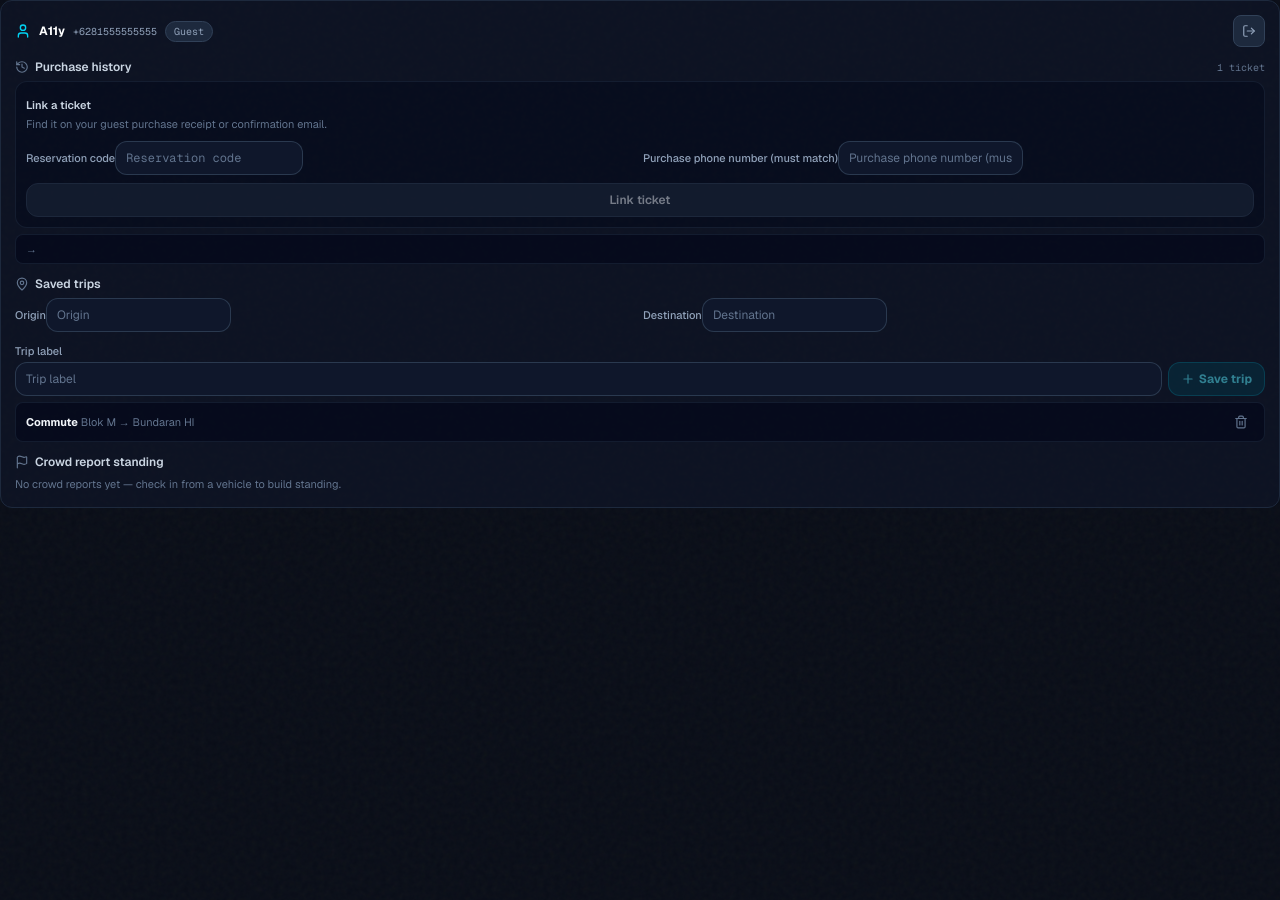
Test: account panel a11y › asks before deleting a saved trip
Expected: the text "Purchase history" is shown, [15, 59, 132, 75]
Click the button named "delete trip" at (1241, 422), box [1228, 409, 1254, 435]
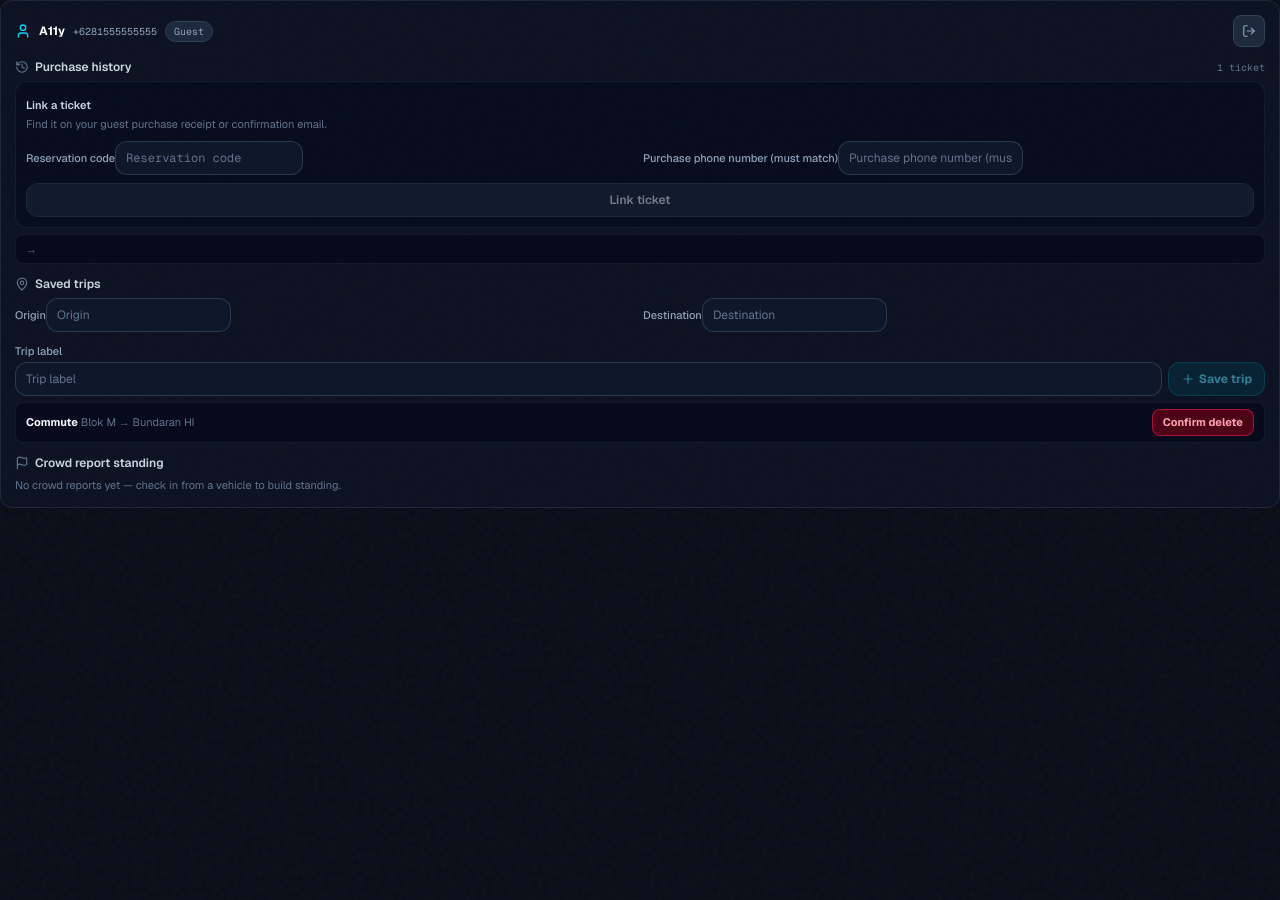
Expected: the text "Commute" is shown, [26, 415, 78, 429]
Click the button "Confirm delete" at (1203, 422), box [1152, 409, 1254, 436]
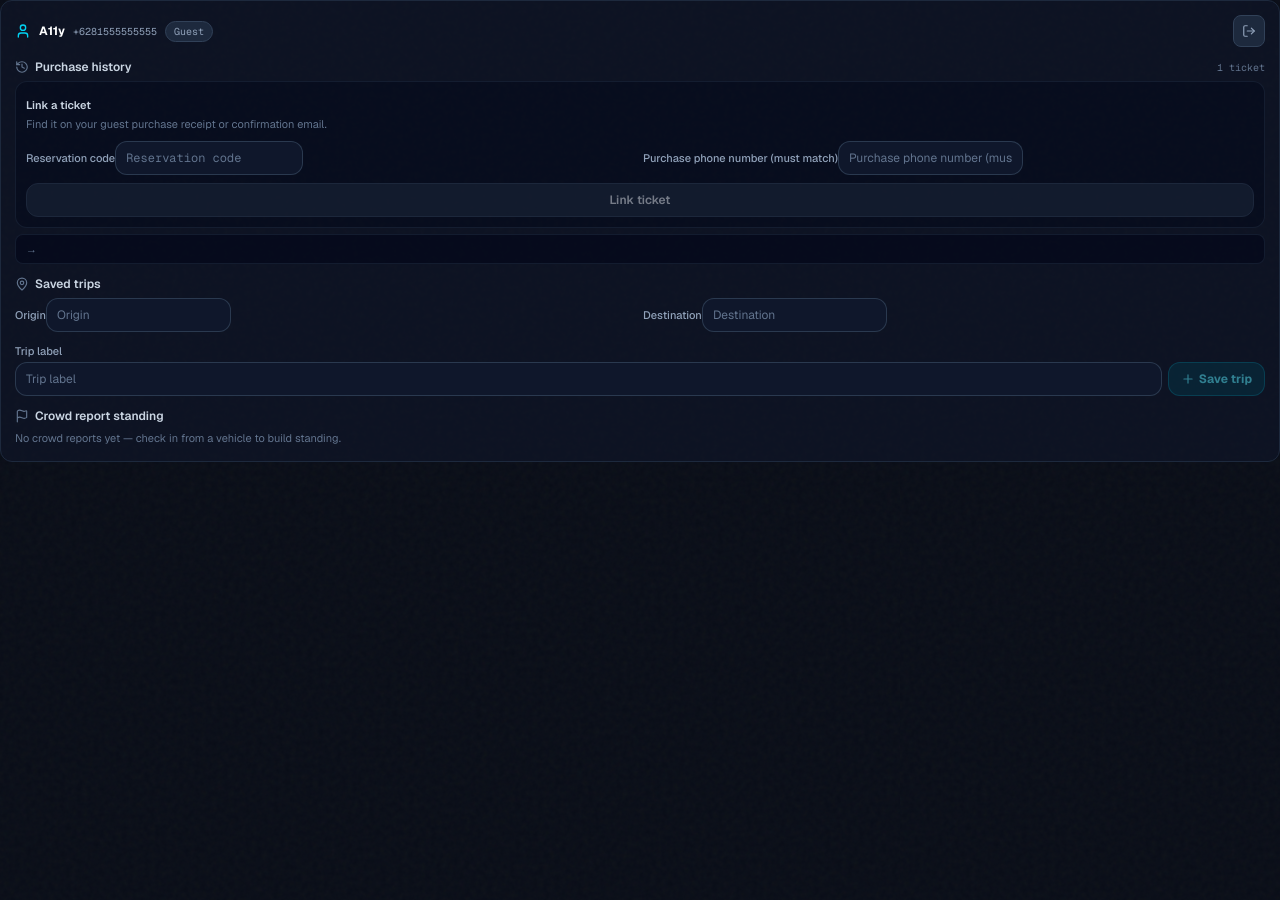
Now the text "Commute" is gone
